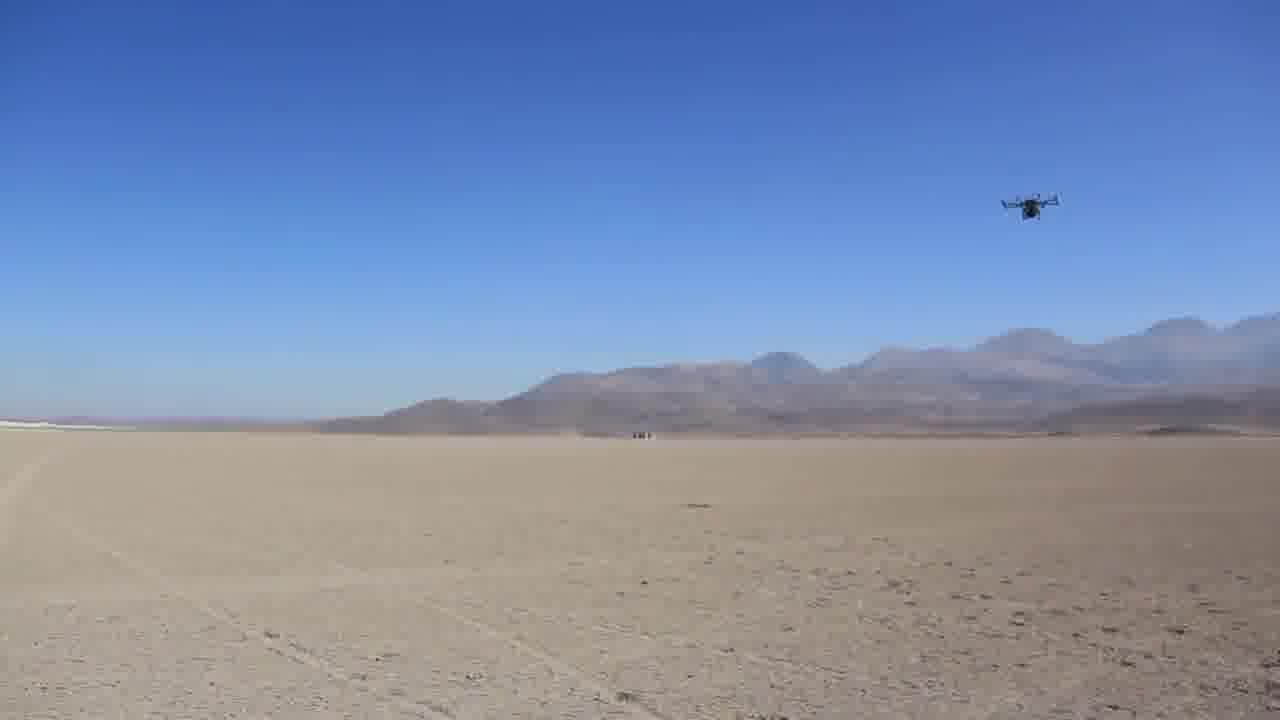Drone: (996, 186, 1069, 226)
